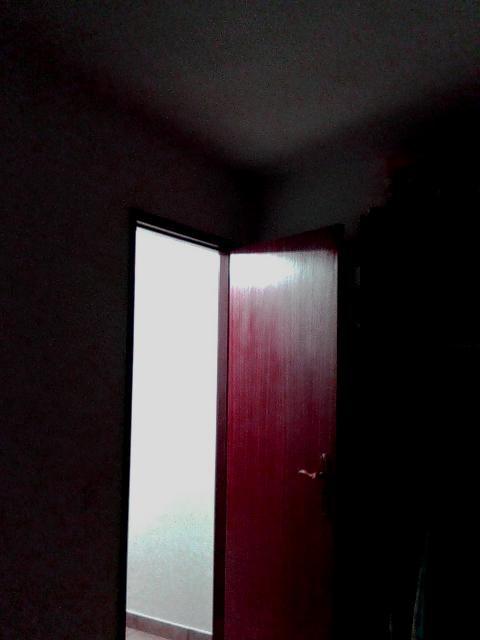open_door: (120, 202, 247, 639)
